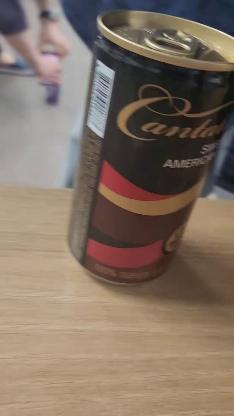Can: (68, 7, 234, 292)
